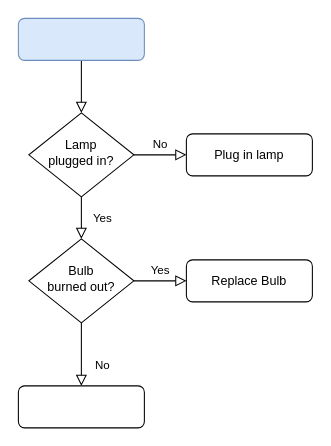
Some shapes in this 331 by 446 pixel diagram are drawn without their labels. The centre of each missing label's shape, as x and y in pixels:
"let's go！" goes at (80,38).
"Repair Lamp" goes at (80,406).
